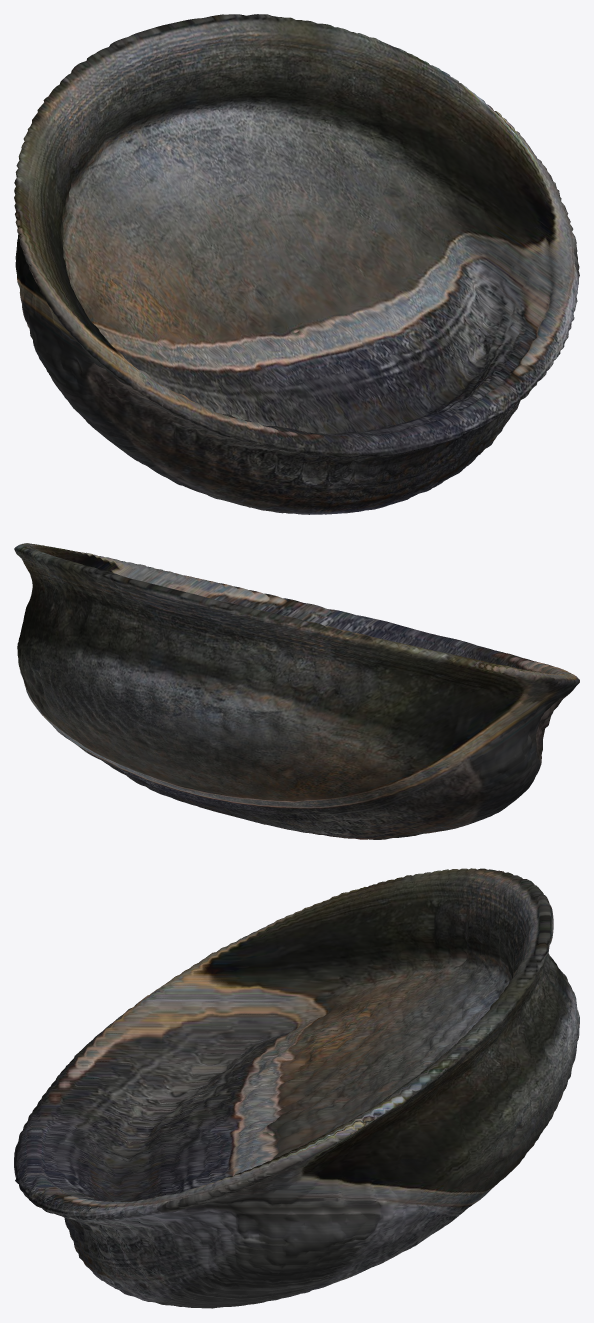
File: kfl-2239.glb
3 views of the same model, one above another, from view 1: azimuth 30°, elevation 25°; view 2: azimuth 150°, elevation 25°; view 3: azimuth 270°, elevation 25° (orthographic). The views are drawn at different scales.
Parts seen in each view (by area): view 1: kfl-2239.glb; view 2: kfl-2239.glb; view 3: kfl-2239.glb.
Boxes of the visible parts, <box> form: kfl-2239.glb: <box>14,14,579,514</box>; kfl-2239.glb: <box>14,543,579,839</box>; kfl-2239.glb: <box>14,868,579,1308</box>.
Size of the model in its own units: 1 by 0.6439 by 0.9396.
Materials: 1 (1 with a texture image).
